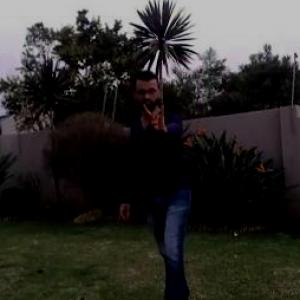takeoff-hand: (140, 96, 172, 132)
